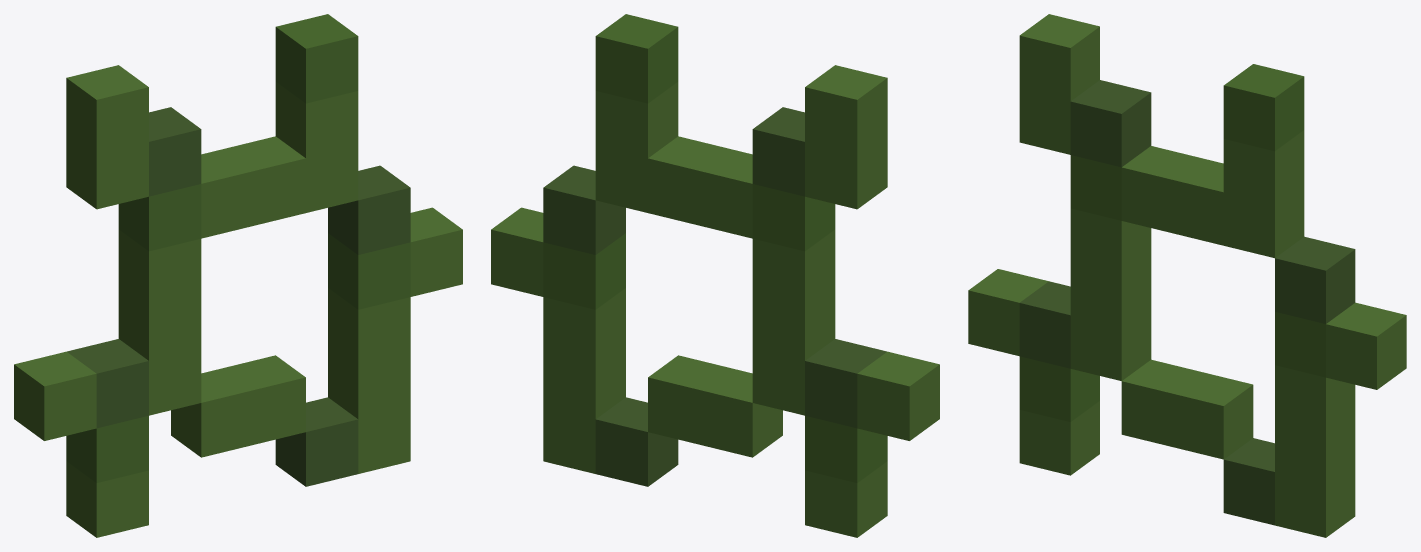
The model's file is Vines.glb.
The picture shows the model from 3 angles, left to right: view 1: azimuth 30°, elevation 25°; view 2: azimuth 150°, elevation 25°; view 3: azimuth 330°, elevation 25°; orthographic projection. The views are drawn at different scales.
Visible parts, largest first — view 1: Untitled; view 2: Untitled; view 3: Untitled.
Part boxes in pixels (x1,y1,x2,y2): Untitled: [14, 14, 462, 537]; Untitled: [491, 14, 939, 537]; Untitled: [968, 14, 1406, 537].
Bounding box in the file's own units: 0.8 × 0.8 × 0.1.
1 material, 1 textured.
